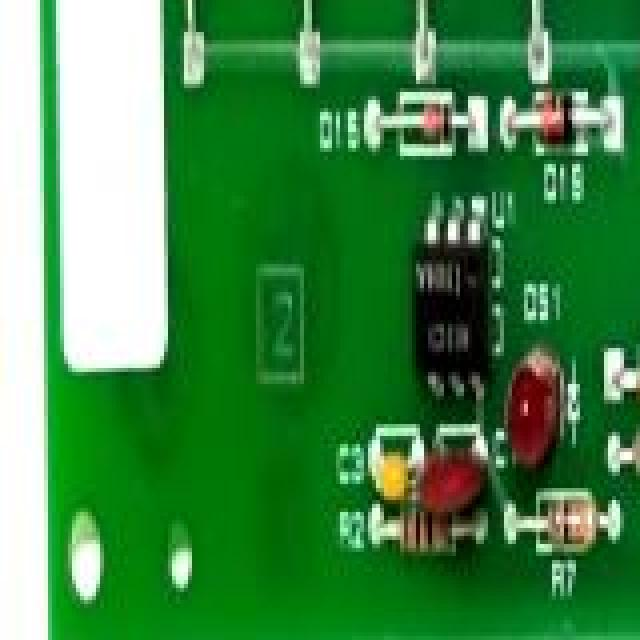IC: (404, 220, 498, 386)
LED: (500, 348, 568, 480)
capacitor: (424, 432, 488, 524), (372, 436, 418, 500)
diode: (400, 92, 464, 170), (516, 108, 594, 164), (288, 0, 328, 40), (624, 320, 640, 420), (176, 0, 212, 44), (404, 0, 440, 28), (524, 0, 564, 20)
resistor: (384, 508, 482, 594), (532, 492, 594, 562), (632, 412, 640, 508)
